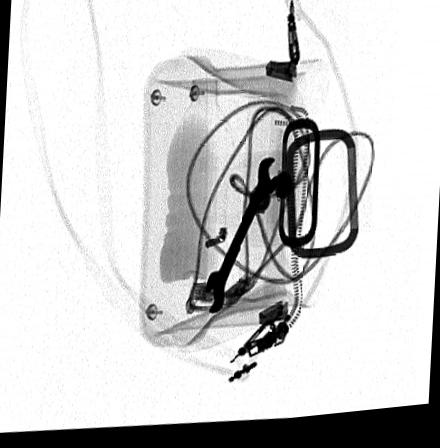Wrench: (205, 162, 279, 318)
